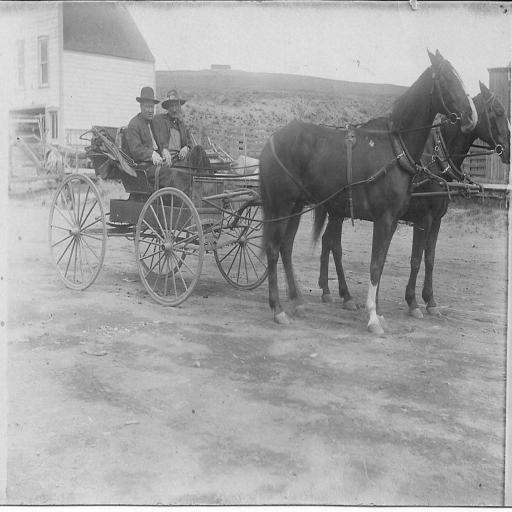horse: (258, 48, 478, 338), (313, 77, 511, 319)
